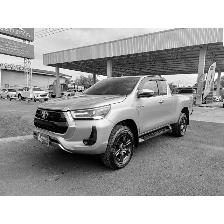NON-EV: (34, 74, 194, 170)
